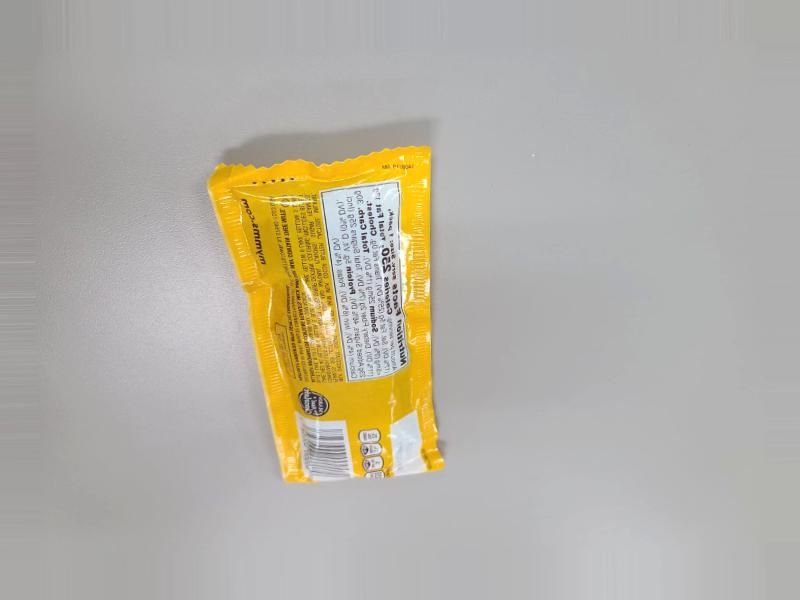m&m: (223, 101, 422, 481)
